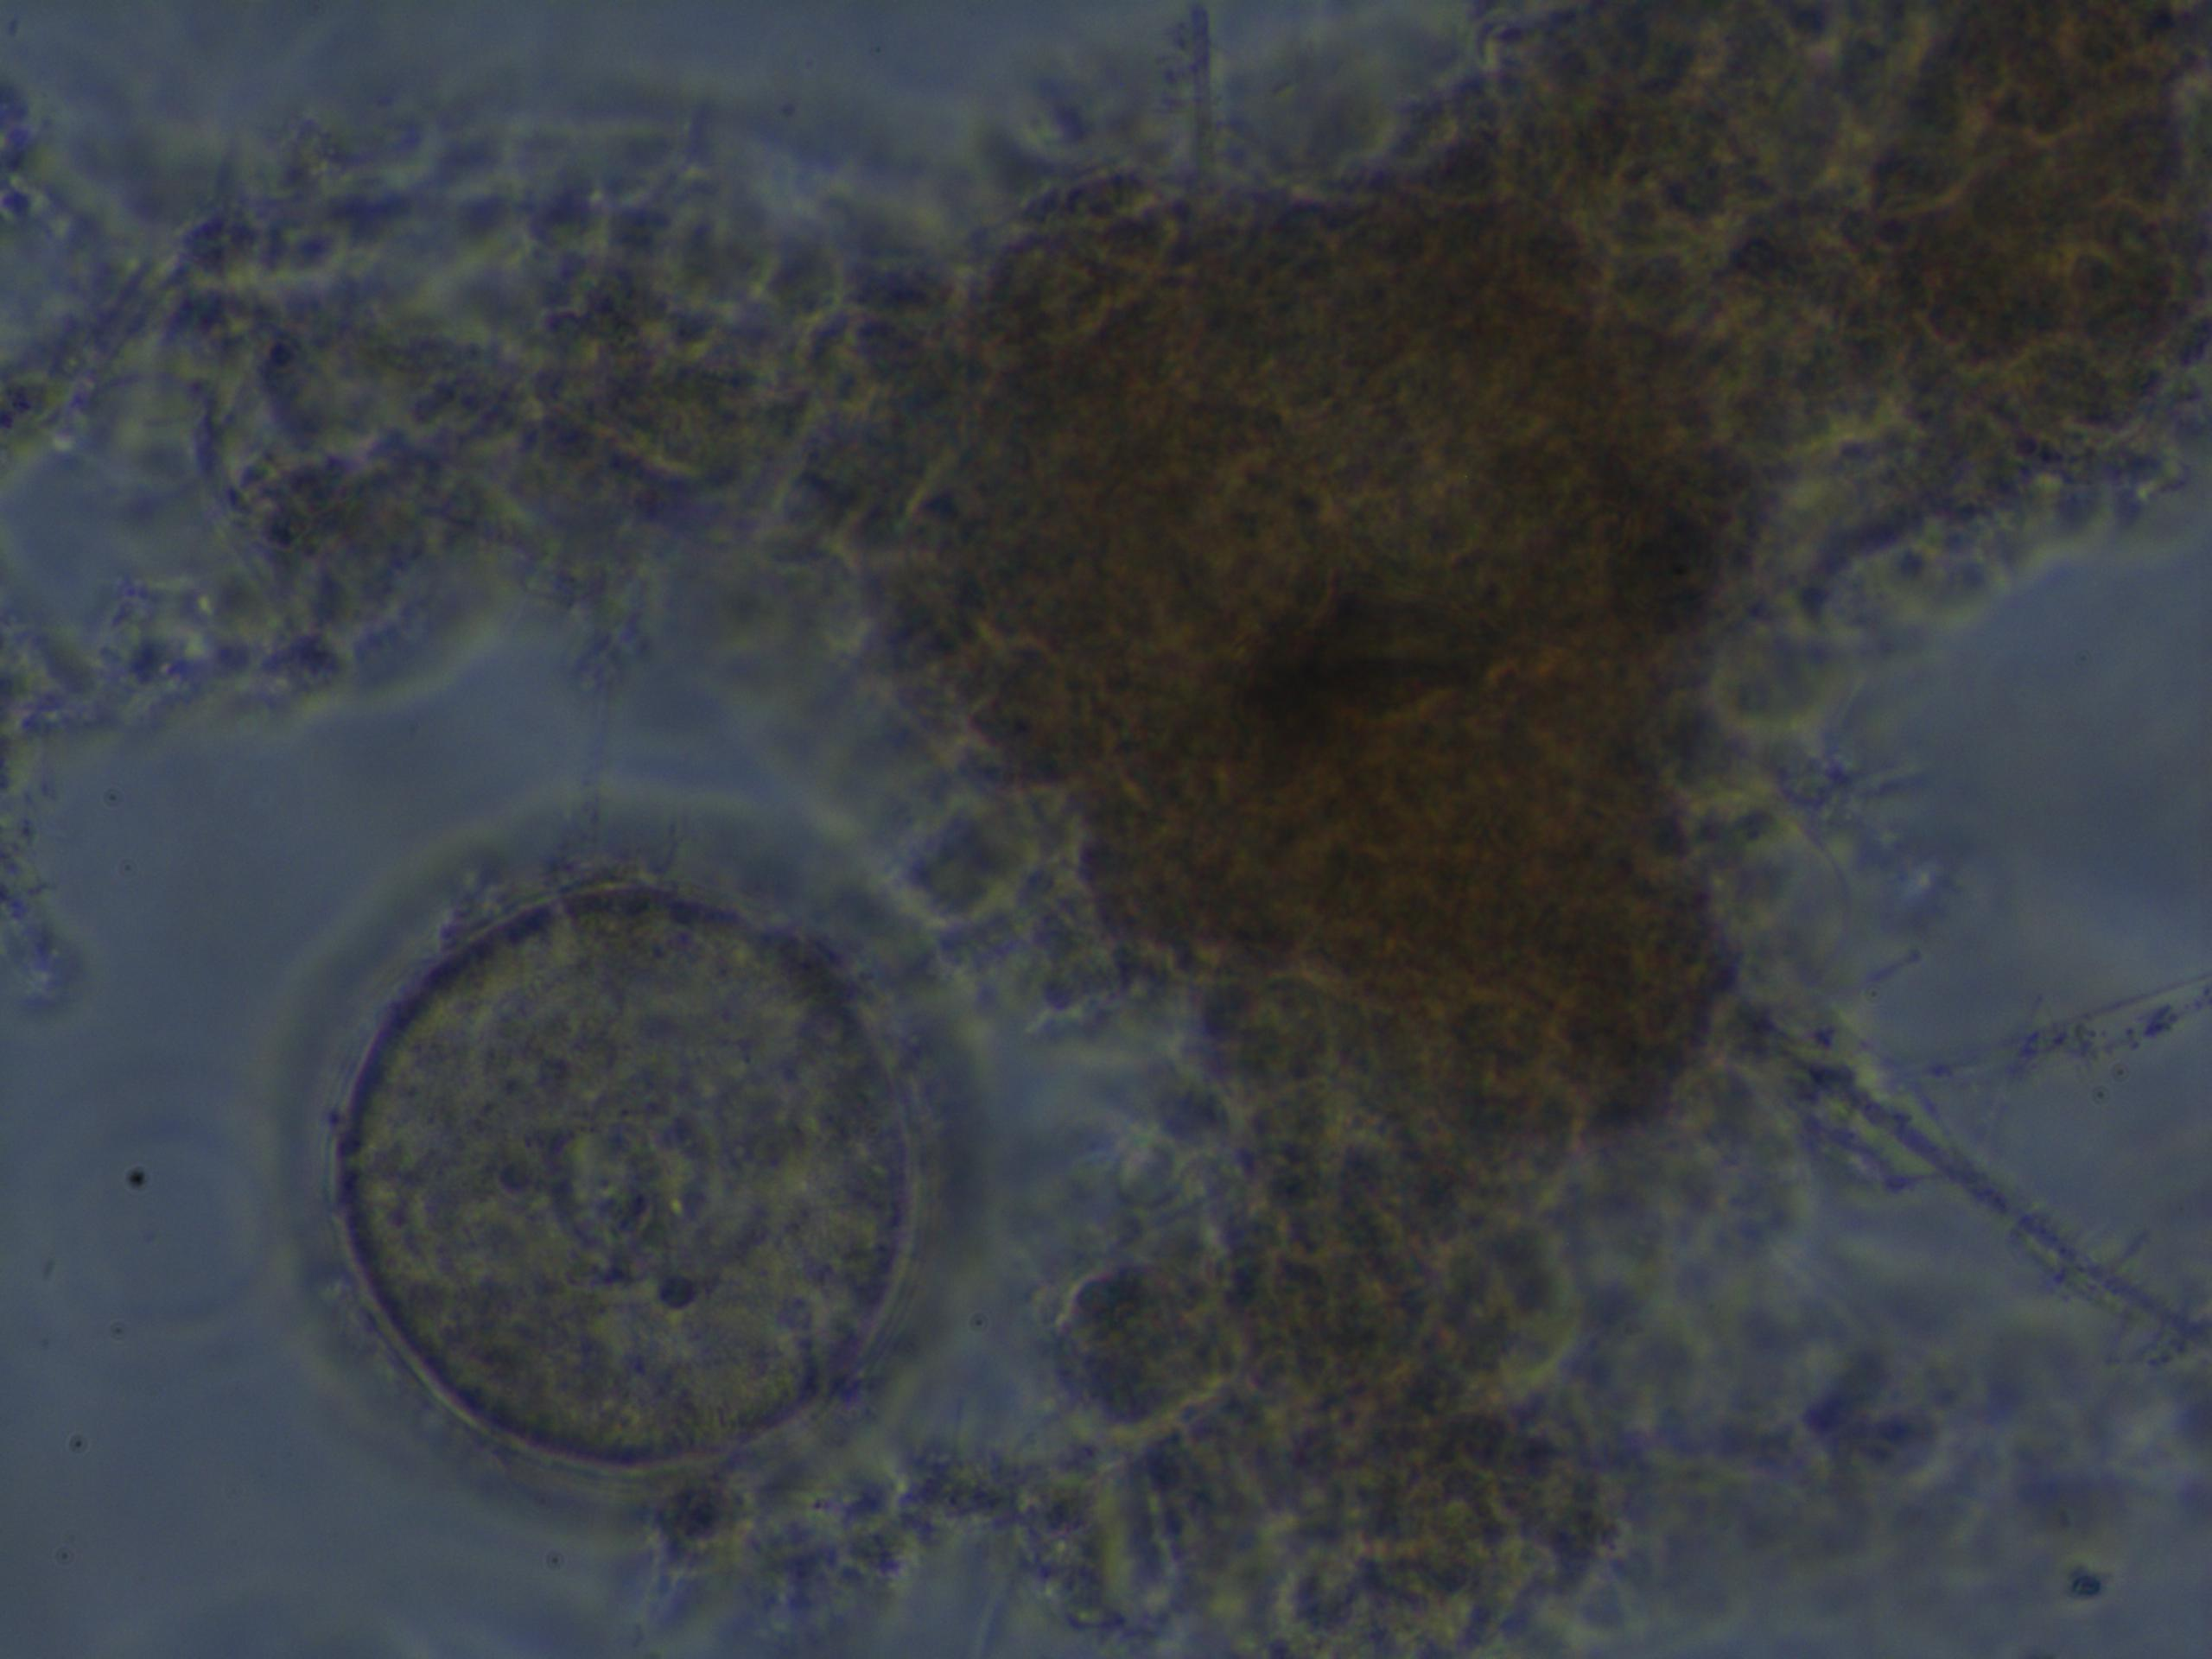filament: (1737, 955, 2212, 1370)
